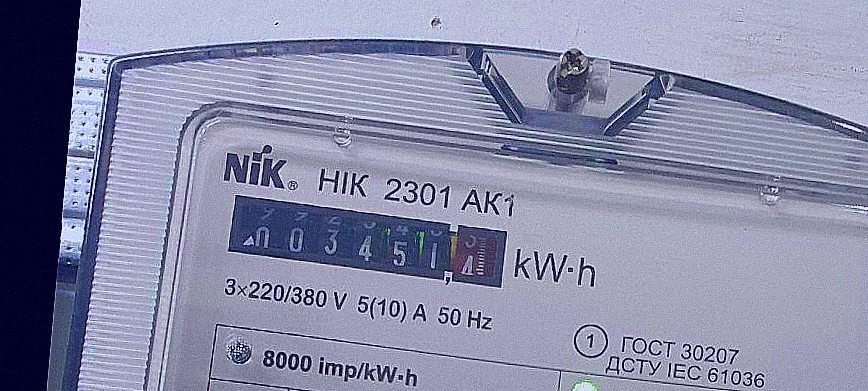0: (250, 221, 272, 249), (285, 224, 306, 253)
1: (424, 238, 442, 271)
3: (319, 224, 341, 257)
4: (353, 231, 376, 265), (455, 250, 477, 280)
5: (389, 236, 408, 269)
screen: (219, 188, 514, 296)
